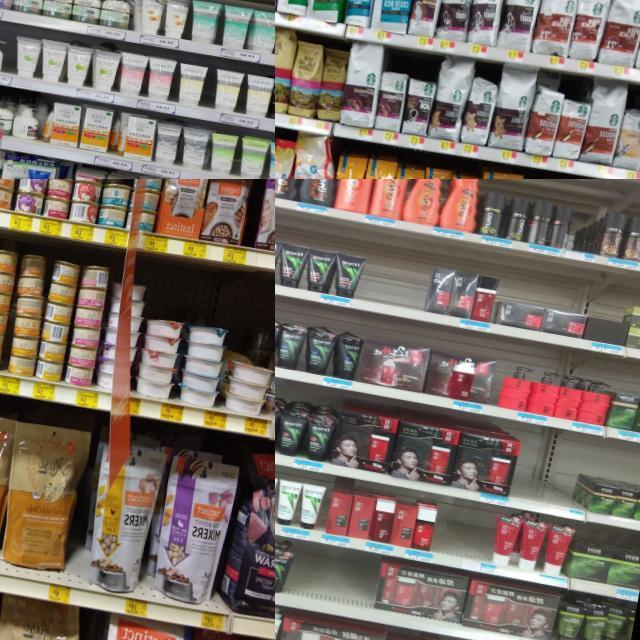empty: (286, 542, 378, 618), (508, 432, 584, 516), (358, 247, 432, 318), (430, 498, 497, 572)
